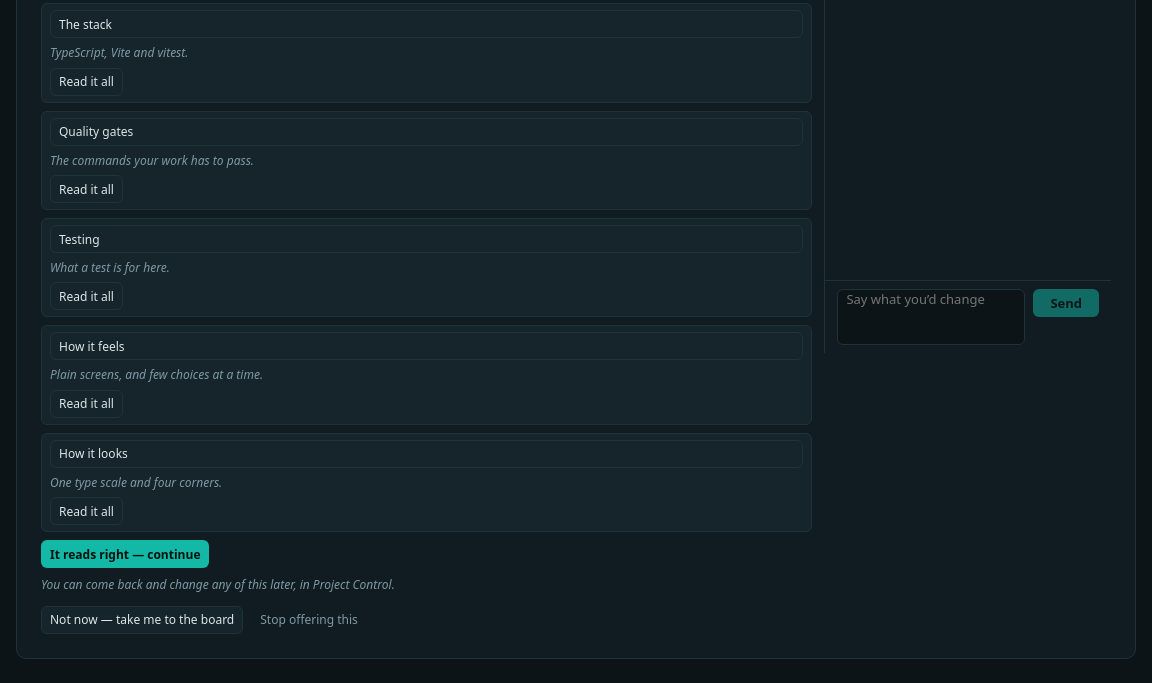
Test: the docs step › the review layout › offers one filled button, and keeps it that way when the report arrives
(page scrolled)
What coordinates should you click on to do the following:
click the button "It reads right — continue"
I would click on:
 (125, 554)
Its box is x1=41 y1=540 x2=210 y2=568.
(page scrolled)
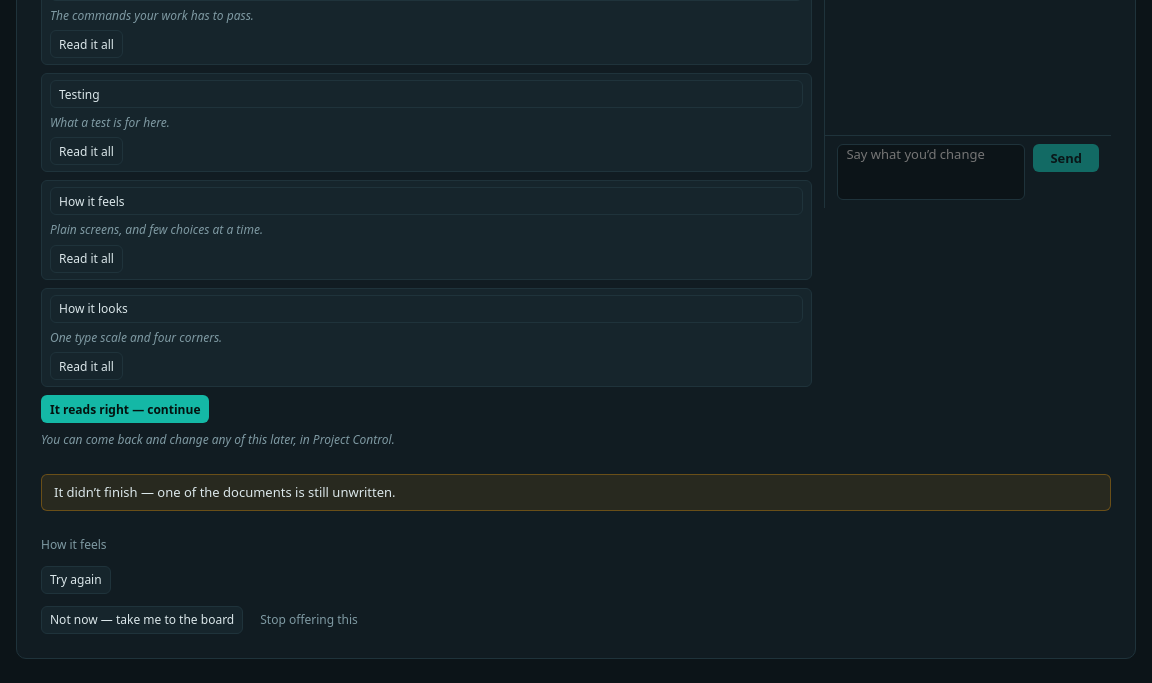
Now the button "Try again" is shown, box x1=41 y1=566 x2=111 y2=594
